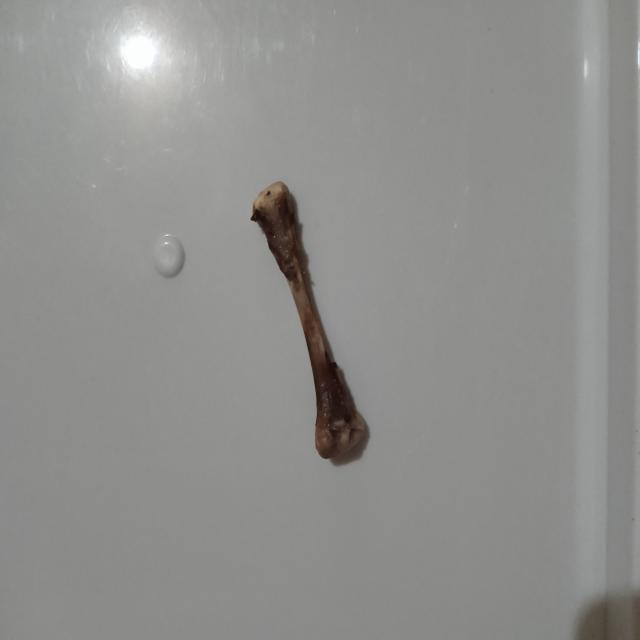bone: (245, 169, 374, 466)
